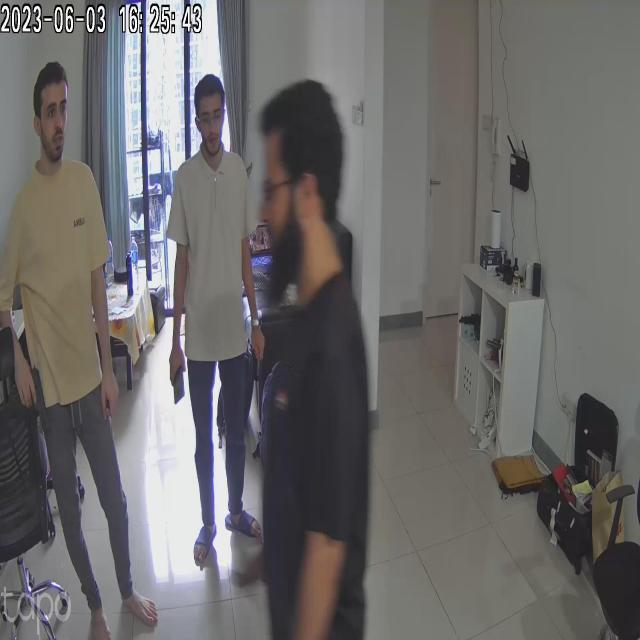Gun: (17, 362, 55, 418)
